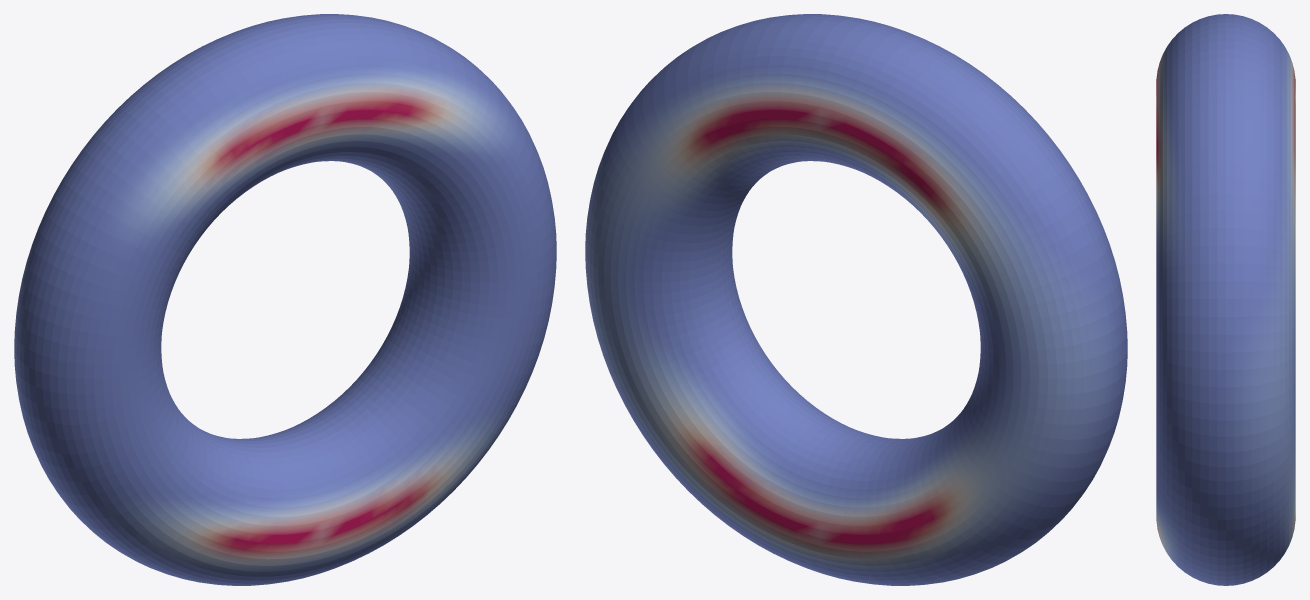
3 views of the same model, side by side, from view 1: azimuth 30°, elevation 25°; view 2: azimuth 150°, elevation 25°; view 3: azimuth 270°, elevation 25° (orthographic). The views are drawn at different scales.
Visible parts, largest first — view 1: world; view 2: world; view 3: world.
Boxes of the visible parts, x1=… form: world: x1=14, y1=14, x2=556, y2=585; world: x1=585, y1=14, x2=1127, y2=585; world: x1=1156, y1=14, x2=1295, y2=585.
Bounding box in the file's own units: 15.87 × 15.87 × 3.86.
